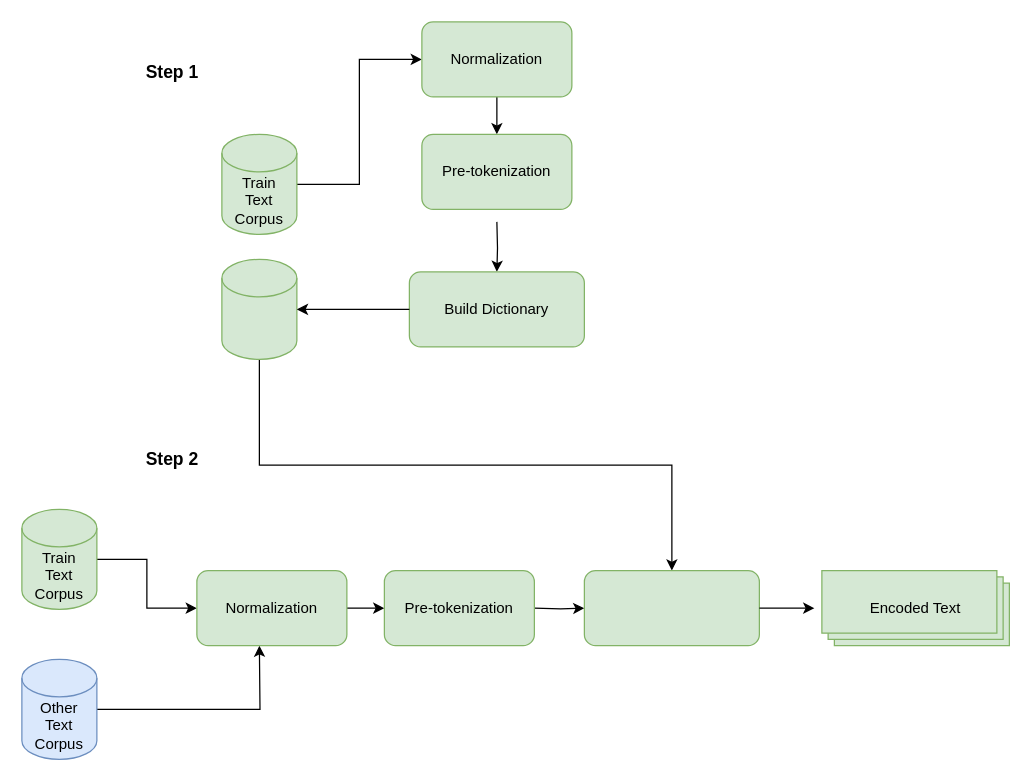
Image size: 1031x781. Some labels were removed from this diagram. The centre of each missing label's shape, as x and y in pixels:
"Text Encoding" goes at pixel 671 607.
"Token-id dictionary" goes at pixel 259 308.
